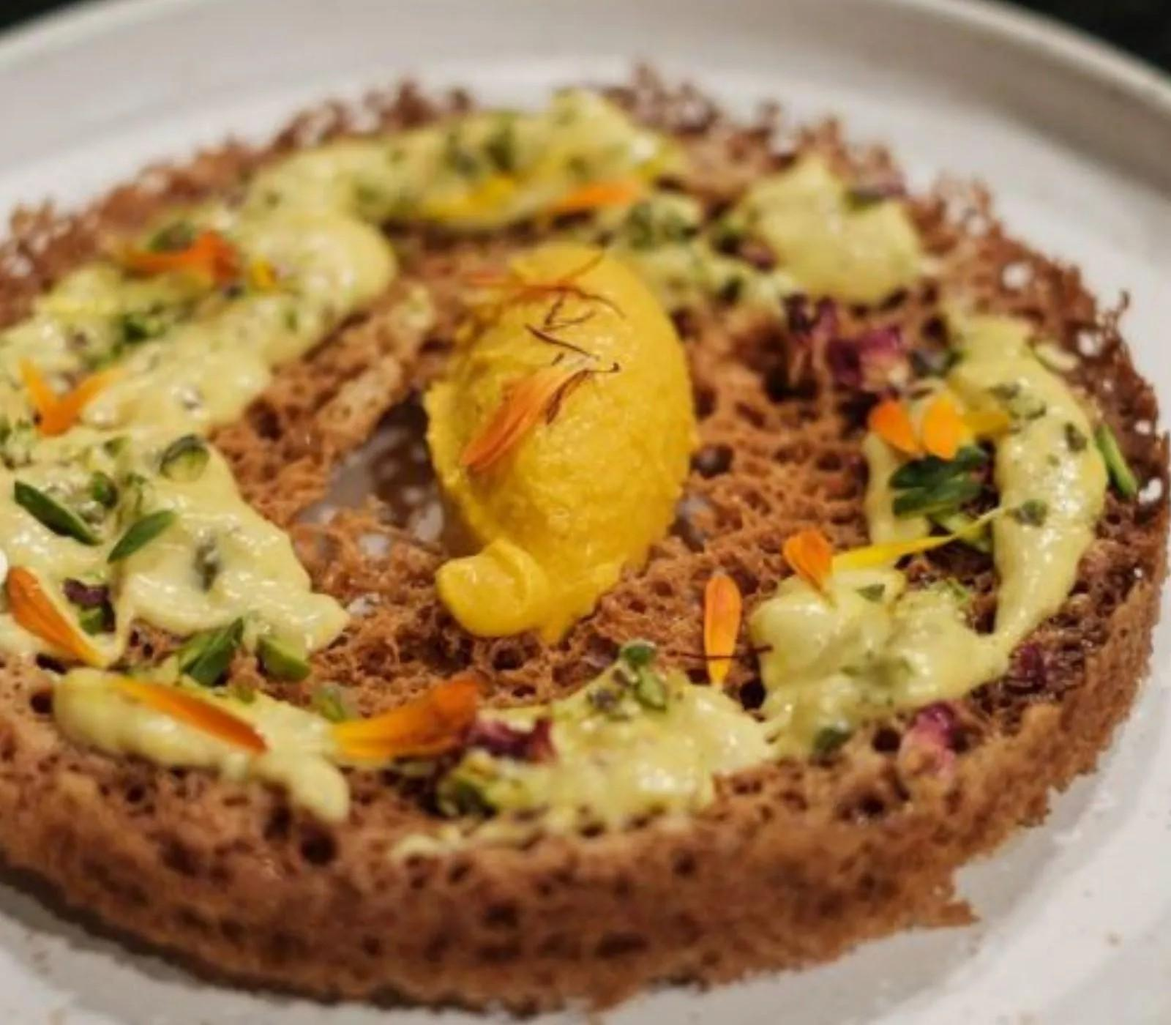Ghevar: (0, 63, 1161, 1008)
